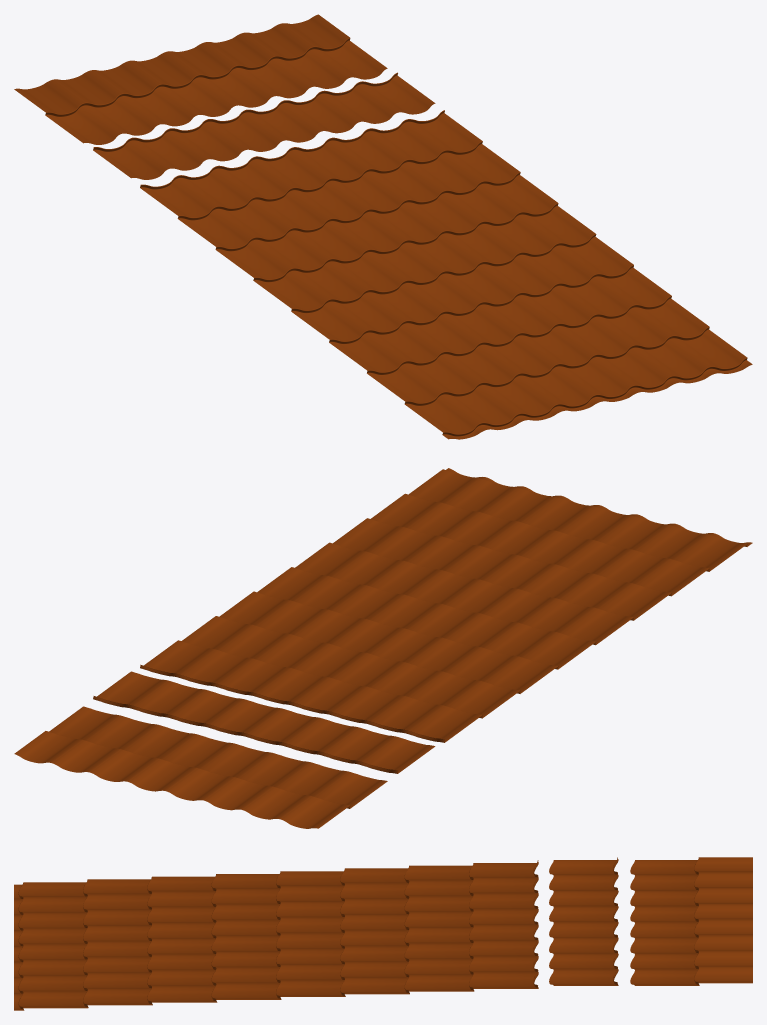
File: metal roof tiles.obj
The picture shows the model from 3 angles, top to bottom: view 1: azimuth 30°, elevation 25°; view 2: azimuth 150°, elevation 25°; view 3: azimuth 270°, elevation 25°; orthographic projection. The views are drawn at different scales.
Visible parts, largest first — view 1: metal_roof_tiles; view 2: metal_roof_tiles; view 3: metal_roof_tiles.
Part boxes in pixels (<box>): metal_roof_tiles: <box>14,14,752,439</box>; metal_roof_tiles: <box>14,468,752,828</box>; metal_roof_tiles: <box>14,857,752,1010</box>.
Bounding box in the file's own units: 1577 × 179 × 3897.
